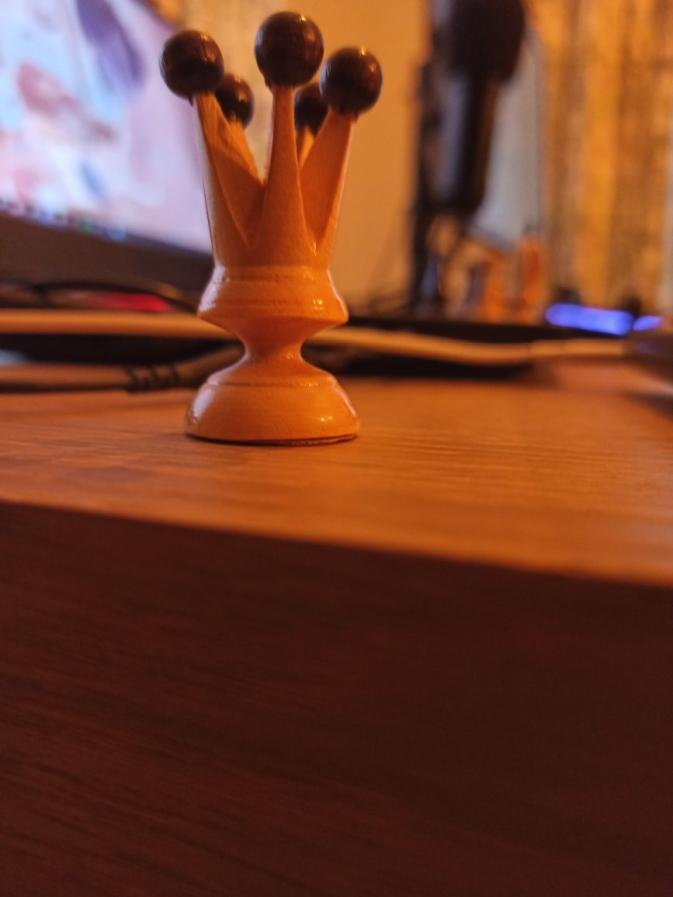wqueen: (158, 14, 387, 451)
